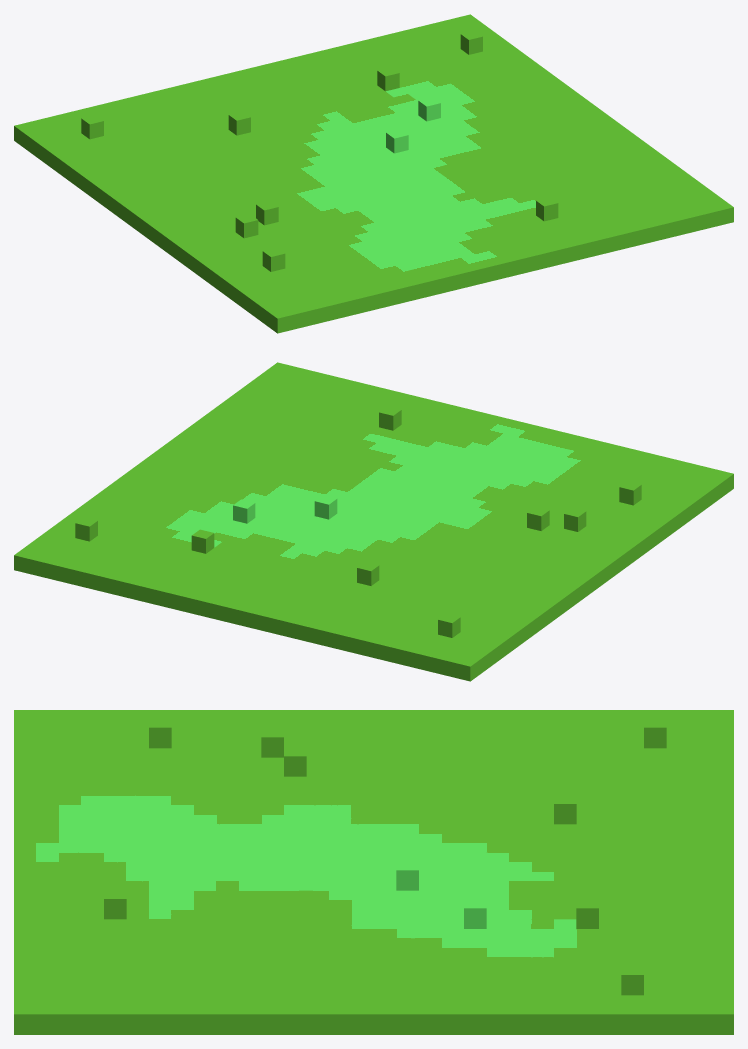
File: env_grass1c.dae
3 renders of one model, top to bottom at view 1: azimuth 30°, elevation 25°; view 2: azimuth 150°, elevation 25°; view 3: azimuth 270°, elevation 25°, orthographic. The views are drawn at different scales.
Parts seen in each view (by area): view 1: env_grass1c; view 2: env_grass1c; view 3: env_grass1c.
Part boxes in pixels (bbox=[...]): env_grass1c: bbox=[14, 14, 733, 333]; env_grass1c: bbox=[14, 362, 733, 681]; env_grass1c: bbox=[14, 710, 733, 1034].
Size of the model in its own units: 3.2 by 3.2 by 0.2.
Materials: 1 (1 with a texture image).
